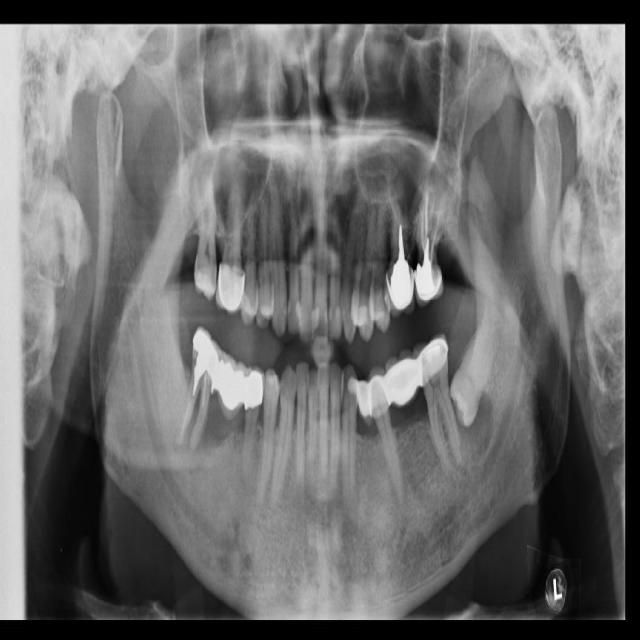52: (341, 328, 466, 428), (172, 313, 278, 426), (212, 263, 249, 317), (384, 262, 416, 317), (413, 262, 445, 308), (351, 288, 375, 342), (367, 282, 391, 335), (193, 251, 218, 301), (239, 273, 259, 326), (256, 281, 275, 329), (312, 303, 329, 345), (298, 300, 314, 341), (328, 303, 343, 341), (287, 295, 301, 334), (429, 230, 443, 266), (416, 235, 426, 268), (389, 239, 396, 269)
73: (411, 173, 451, 267), (173, 370, 215, 456), (386, 172, 409, 265), (612, 604, 624, 616)
BioHorizons Implant: (412, 172, 448, 308)
Biomet 3i Implant: (440, 315, 505, 428)
Blue Sky Bio Implant: (411, 331, 464, 475)
Caries: (192, 175, 218, 301)
Implant: (174, 325, 226, 452)
